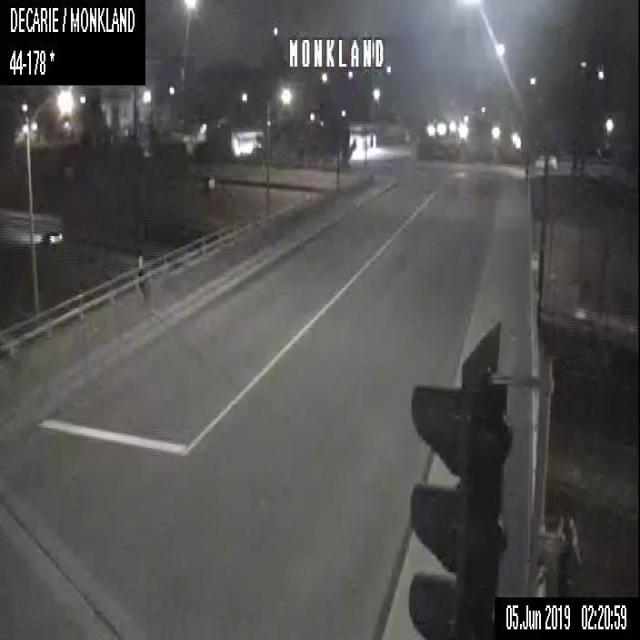vehicle: (0, 208, 63, 245), (534, 152, 557, 168)
